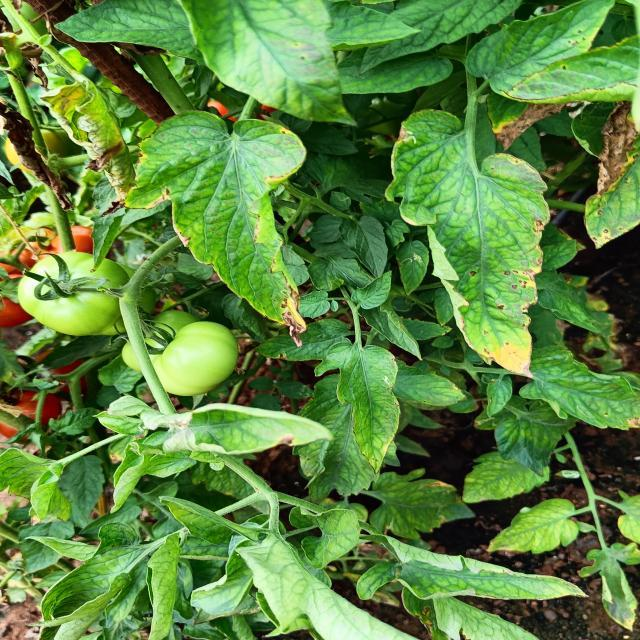Tomato mosaic virus leaf: (118, 125, 312, 353), (396, 154, 555, 384), (574, 99, 640, 252), (478, 91, 574, 153)
